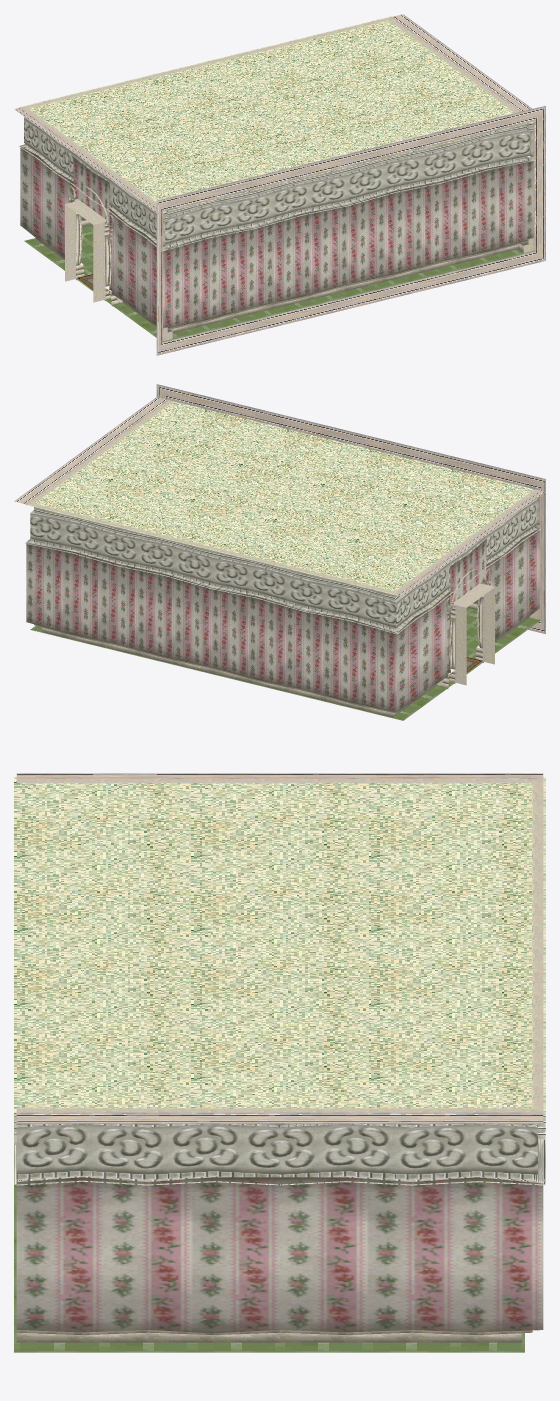
The model's file is room_28.glb.
3 views of the same model, one above another, from view 1: azimuth 30°, elevation 25°; view 2: azimuth 150°, elevation 25°; view 3: azimuth 270°, elevation 25° (orthographic). The views are drawn at different scales.
Parts seen in each view (by area): view 1: room_28; view 2: room_28; view 3: room_28.
Part boxes in pixels (box(x1,y1,x2,y2)): room_28: box(14, 14, 545, 355); room_28: box(14, 384, 545, 720); room_28: box(14, 773, 545, 1352).
Size of the model in its own units: 1600 by 600 by 1010.
Materials: 27 (27 with a texture image).
